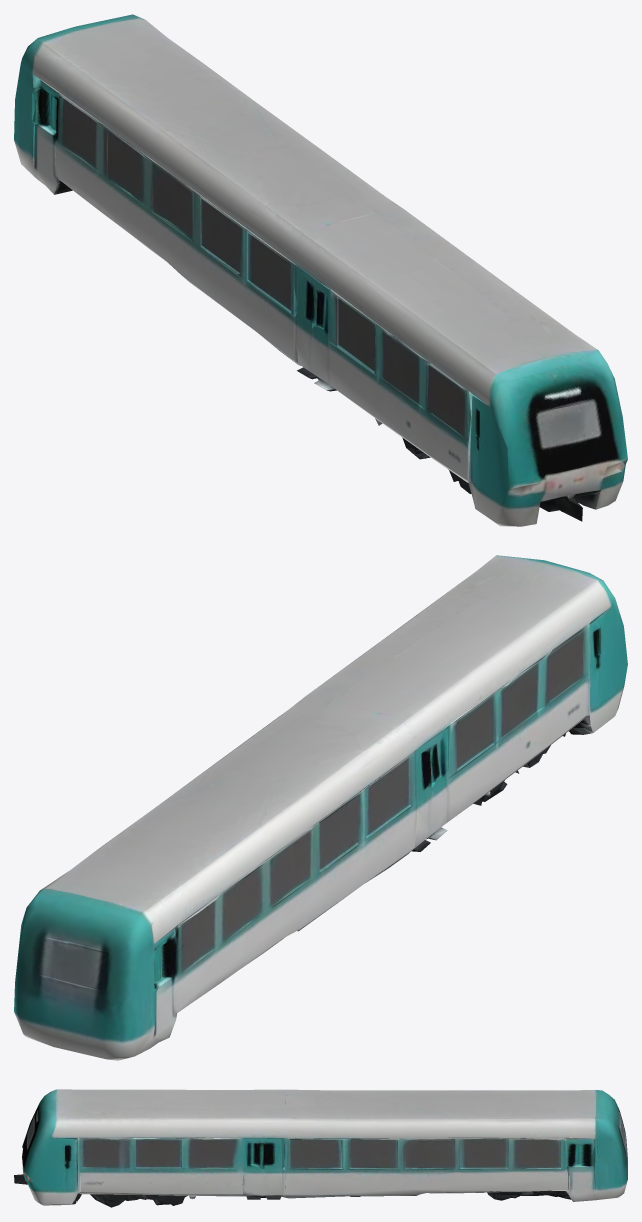
File: trainCarV2.glb
3 renders of one model, top to bottom at view 1: azimuth 30°, elevation 25°; view 2: azimuth 150°, elevation 25°; view 3: azimuth 270°, elevation 25°, orthographic. The views are drawn at different scales.
Visible parts, largest first — view 1: model; view 2: model; view 3: model.
Part boxes in pixels (x1,y1,x2,y2): model: (14, 14, 627, 526); model: (14, 555, 627, 1060); model: (14, 1089, 627, 1207).
Bounding box in the file's own units: 0.2651 × 0.3254 × 1.9.
Materials: 1 (1 with a texture image).
